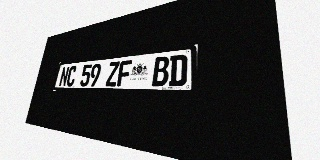5: (80, 64, 92, 86)
9: (89, 63, 102, 86)
B: (152, 56, 170, 86)
C: (66, 66, 77, 86)
D: (168, 54, 188, 86)
F: (117, 60, 132, 86)
N: (58, 66, 70, 86)
Z: (105, 61, 120, 86)
